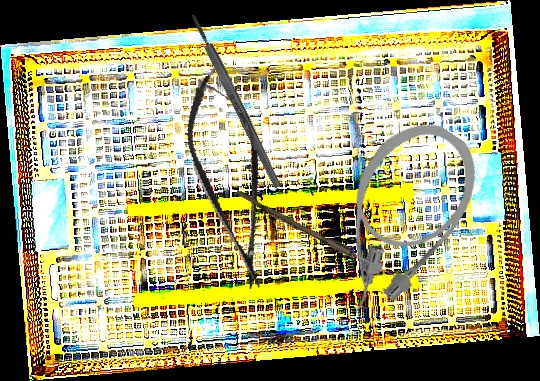Cannula: (297, 104, 497, 333)
Micro Scissor: (174, 68, 288, 296)
Scalpel Handle: (188, 12, 283, 190)
Surgical Spoon: (233, 189, 398, 280)
